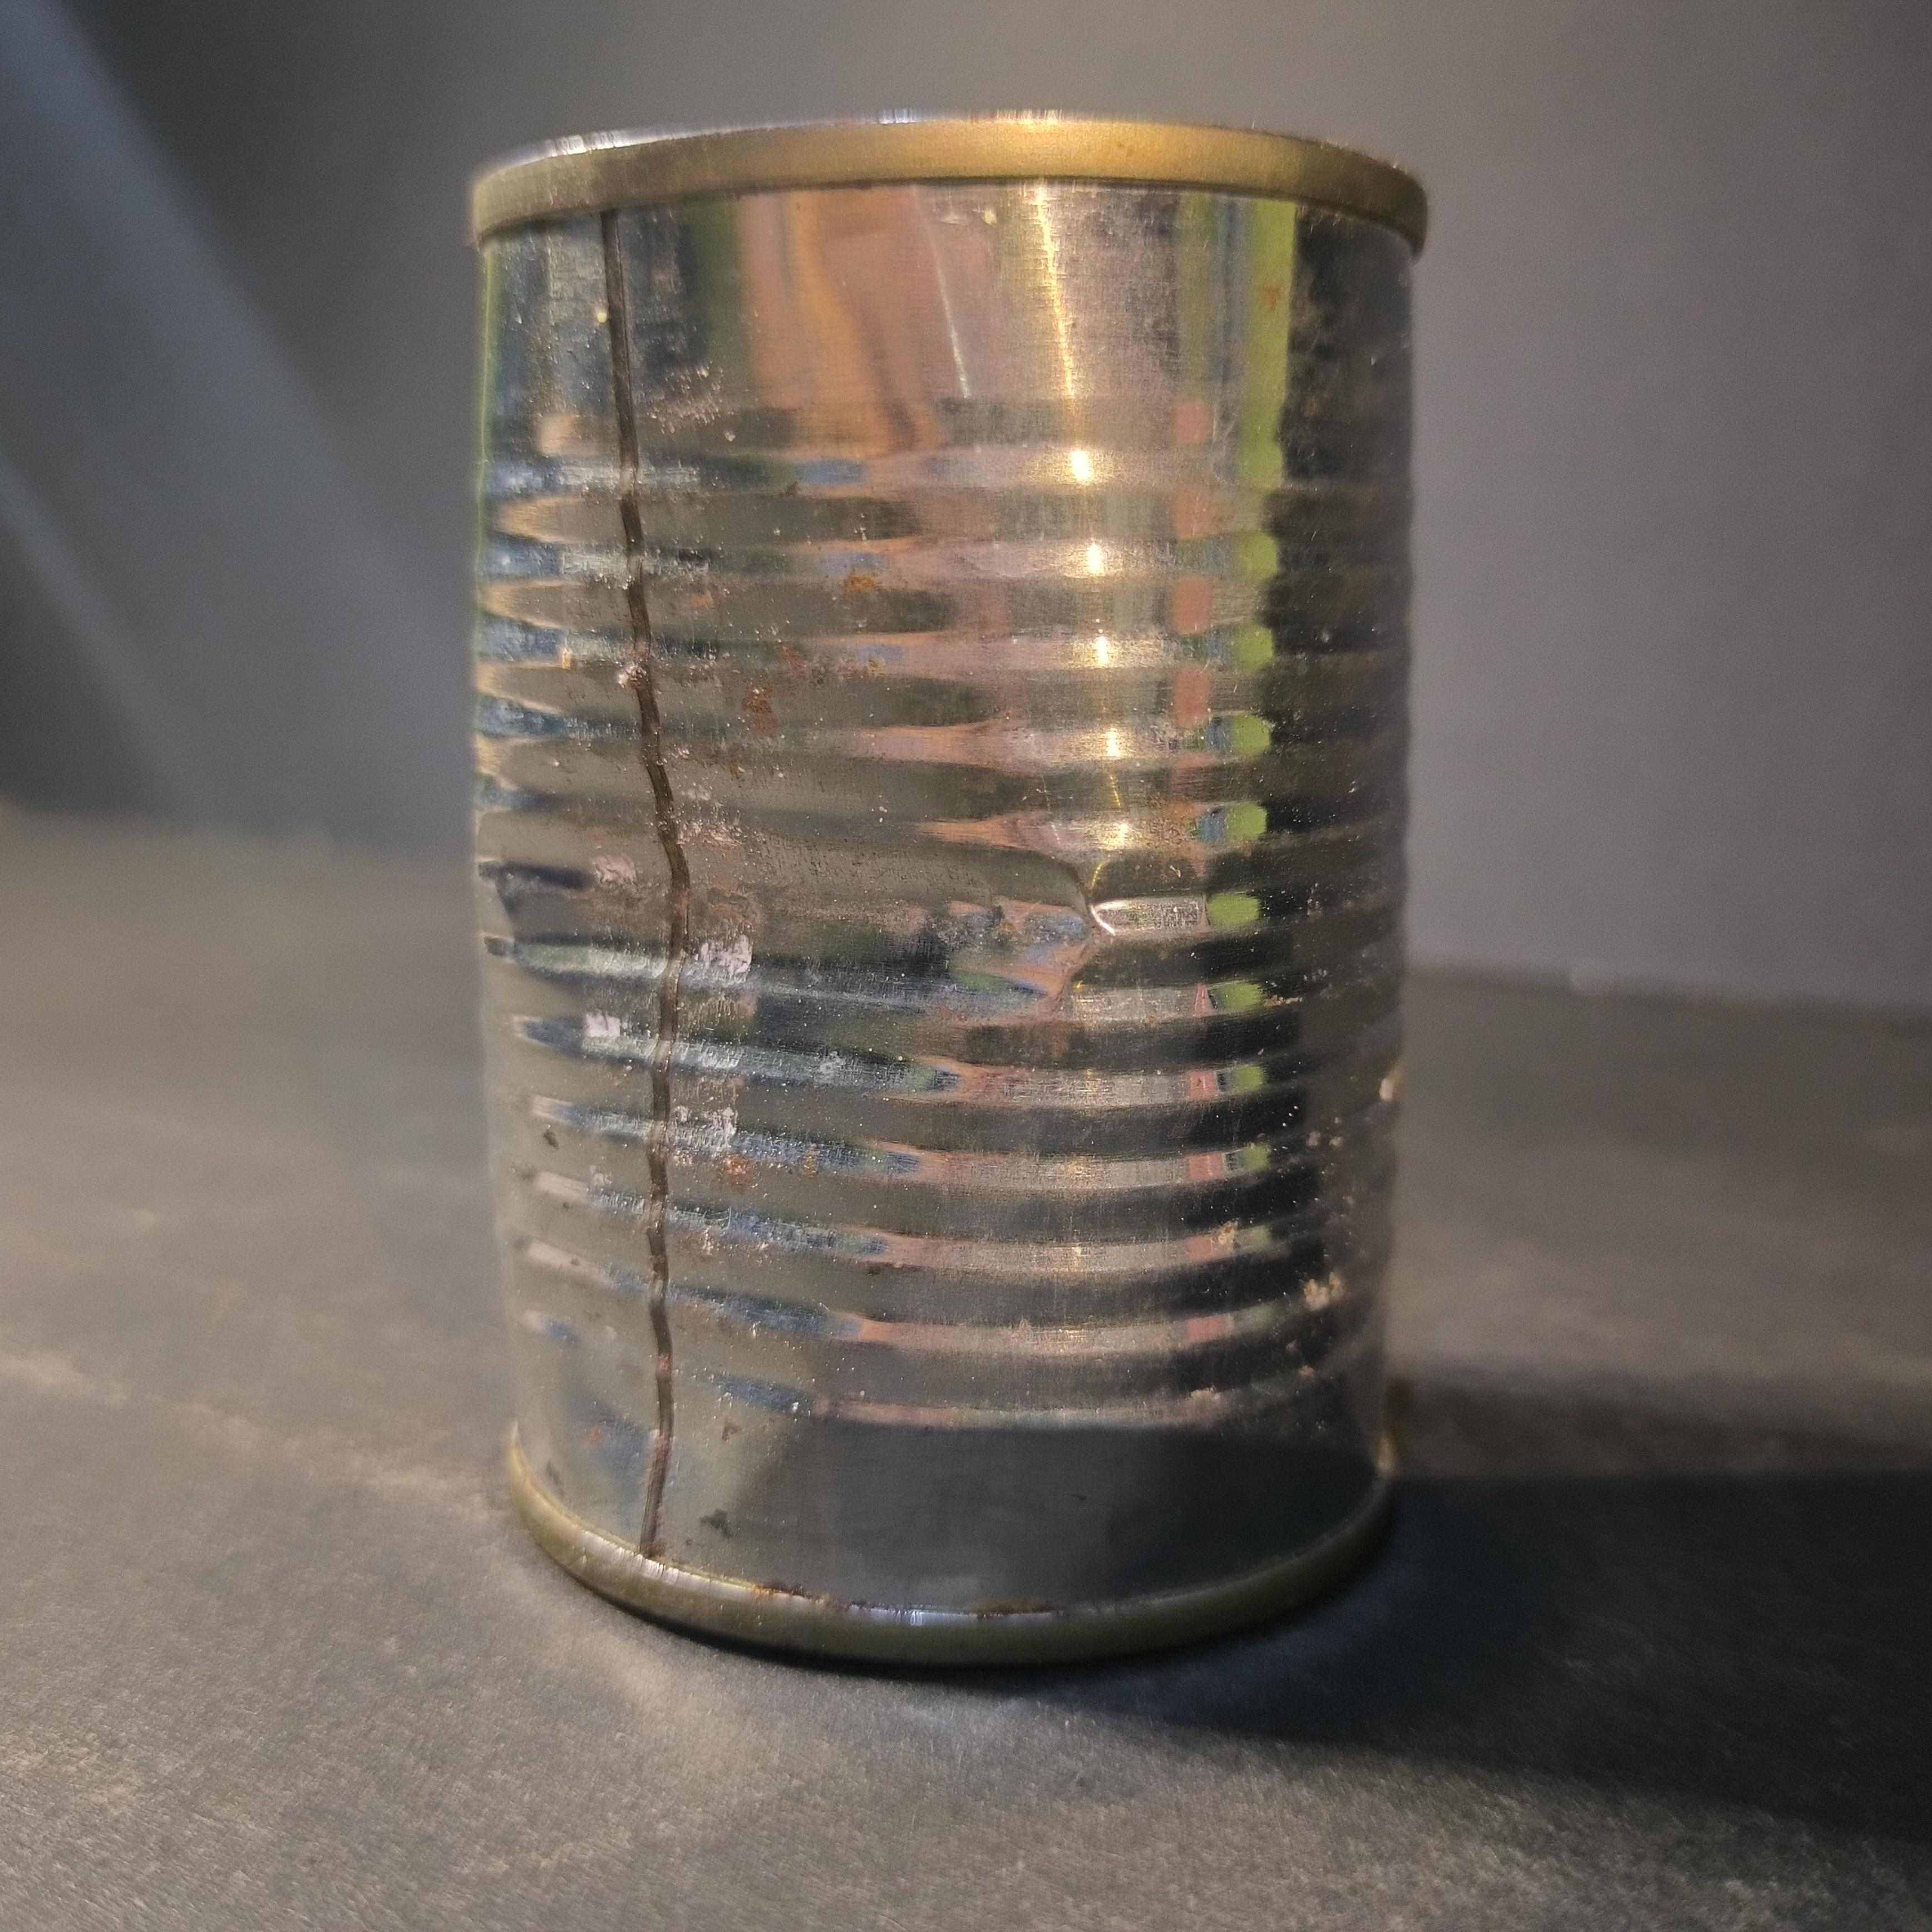Dented: (442, 87, 1433, 1683)
